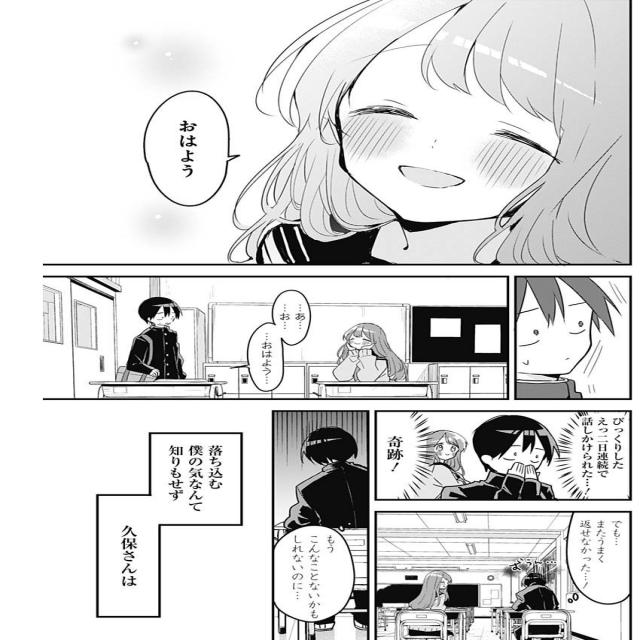Bubble: (141, 89, 232, 207), (149, 432, 243, 526), (270, 524, 358, 624), (97, 492, 161, 618), (556, 408, 632, 502), (564, 509, 635, 606), (371, 406, 432, 504), (246, 322, 286, 393), (270, 286, 316, 346)
